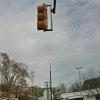Traffic light: (27, 0, 58, 35)
